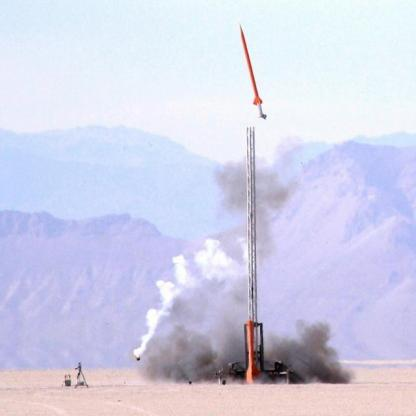MIL_TBM: (237, 21, 268, 120)
